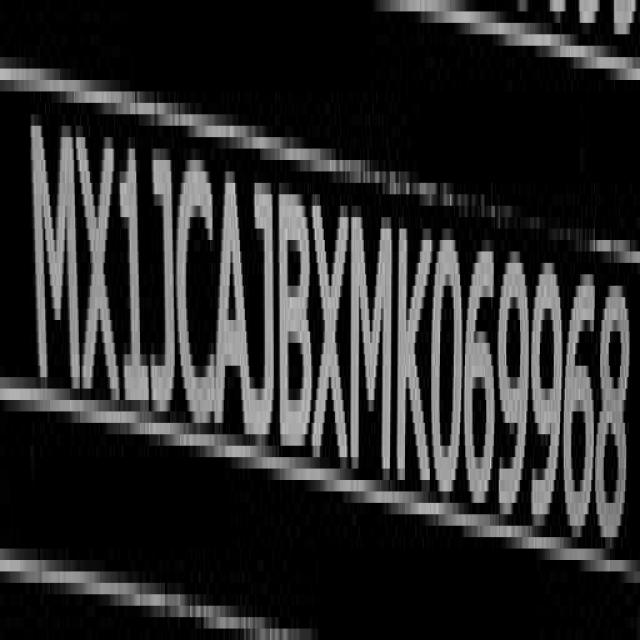0: (432, 219, 463, 504)
1: (120, 118, 141, 420)
6: (465, 233, 497, 517), (566, 260, 597, 543)
8: (601, 272, 634, 546)
9: (531, 257, 564, 538), (500, 243, 530, 527)
A: (217, 152, 249, 446)
B: (281, 174, 313, 462)
C: (180, 142, 218, 434)
J: (146, 133, 177, 429), (250, 178, 276, 470)
K: (397, 214, 431, 498)
M: (30, 98, 79, 411), (349, 196, 392, 488)
X: (76, 113, 118, 415), (312, 185, 348, 478)
